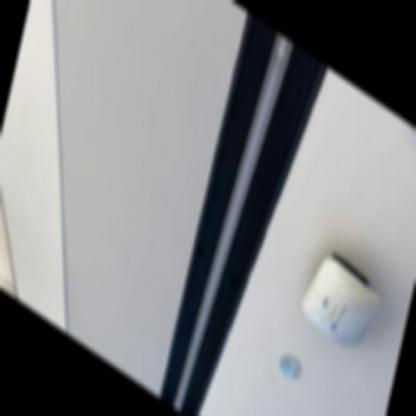light_off: (167, 18, 298, 415)
